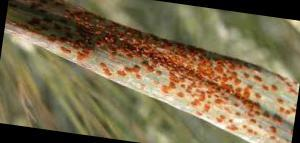Wheat: (123, 28, 254, 112), (69, 16, 118, 63), (18, 2, 62, 36)
